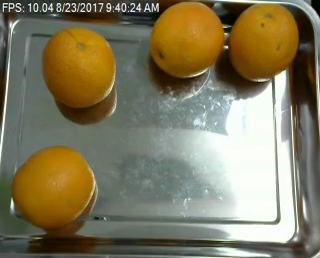Orange: (10, 146, 96, 228), (42, 26, 116, 106), (150, 2, 225, 77), (228, 2, 299, 81)
